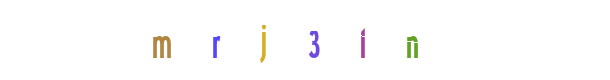3: (265, 0, 345, 80)
J: (232, 0, 312, 80)
L: (318, 0, 398, 80)
M: (125, 0, 205, 80)
N: (372, 0, 452, 80)
R: (223, 0, 303, 80)
